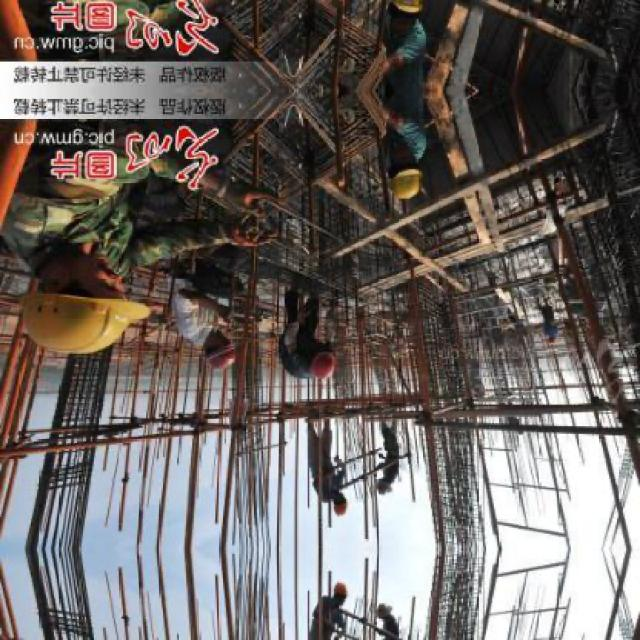con casco: (0, 204, 174, 370), (378, 157, 451, 228), (306, 335, 372, 395), (196, 331, 272, 382), (318, 490, 366, 524)
